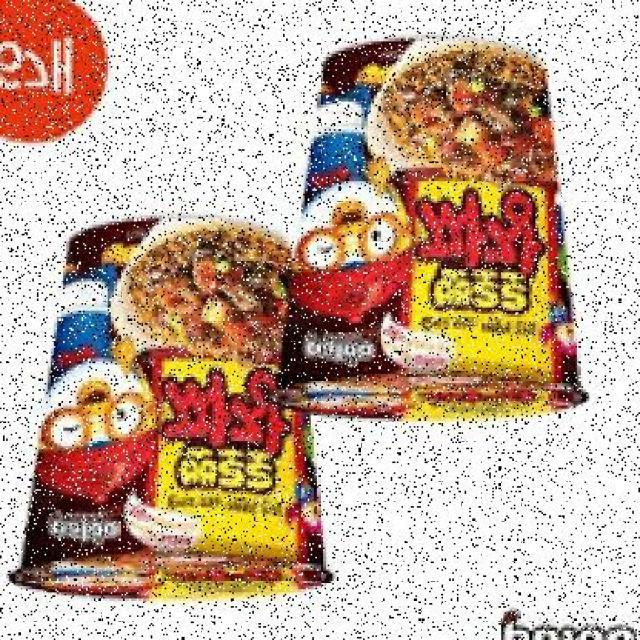Miscellaneous: (11, 218, 338, 620), (274, 33, 590, 424)
